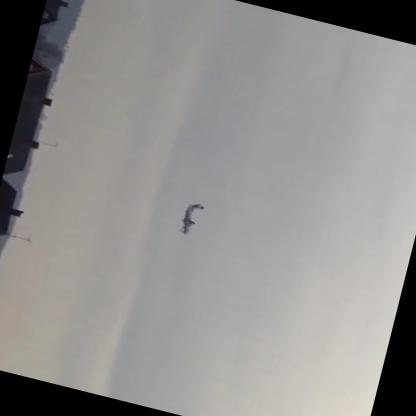plane: (173, 201, 205, 240)
